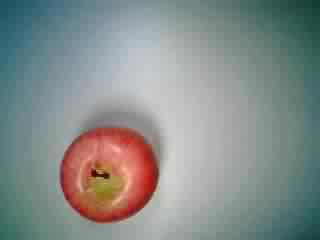apple: (59, 131, 164, 222)
